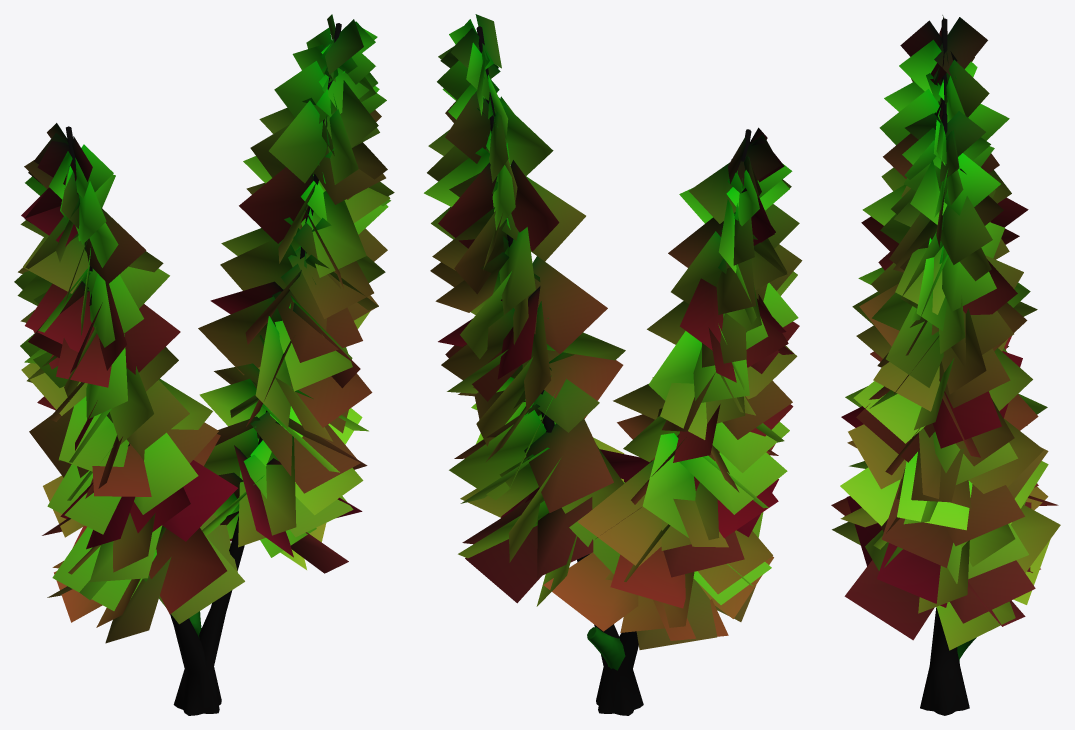
File: M_Pine_2_15.fbx
3 views of the same model, side by side, from view 1: azimuth 30°, elevation 25°; view 2: azimuth 150°, elevation 25°; view 3: azimuth 270°, elevation 25° (orthographic). The views are drawn at different scales.
Parts seen in each view (by area): view 1: Tree_15; view 2: Tree_15; view 3: Tree_15.
Part boxes in pixels (bbox=[...]): Tree_15: bbox=[14, 14, 394, 715]; Tree_15: bbox=[424, 14, 802, 715]; Tree_15: bbox=[831, 15, 1060, 715].
Size of the model in its own units: 1258 by 2237 by 700.
